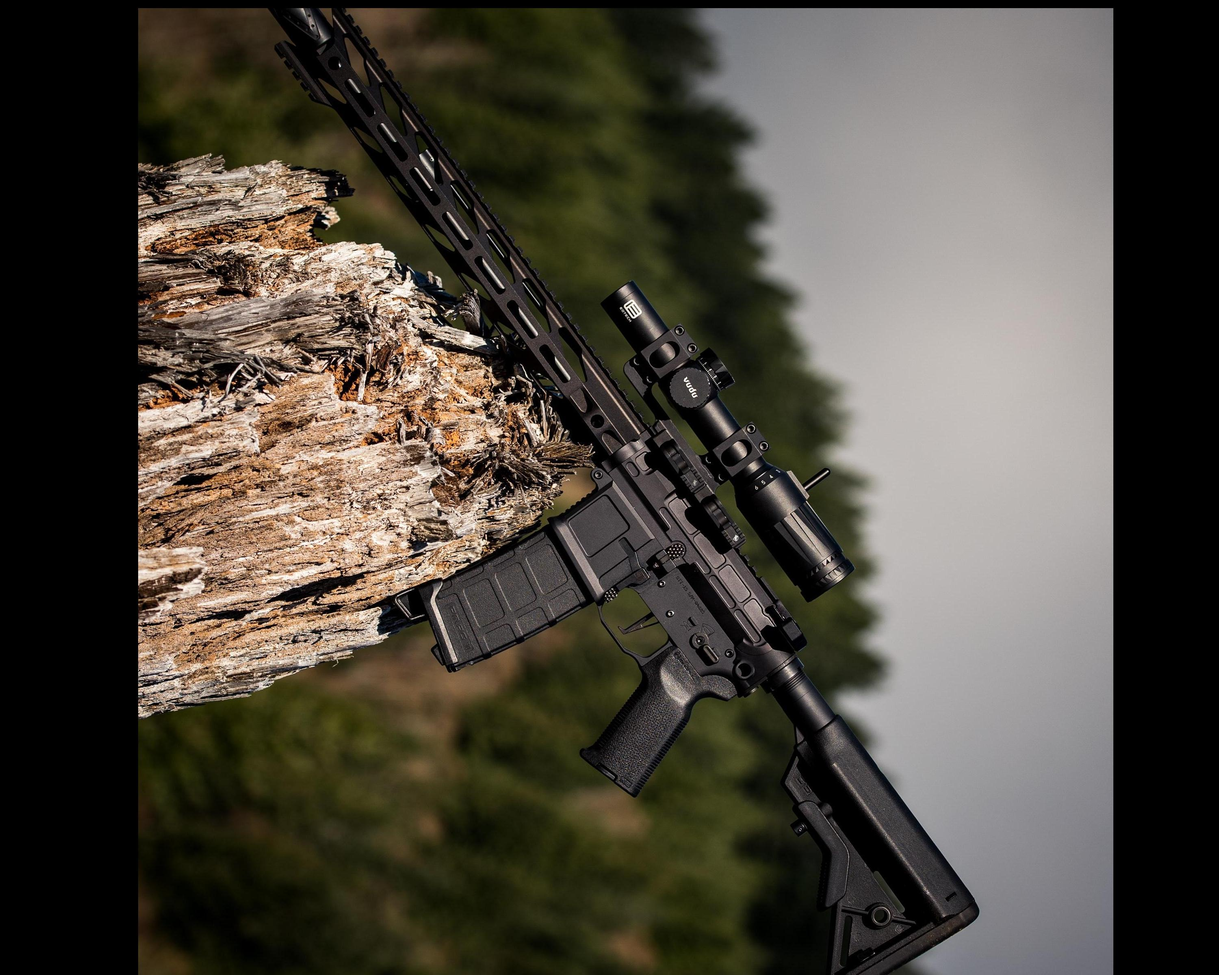larga: (269, 6, 982, 975)
